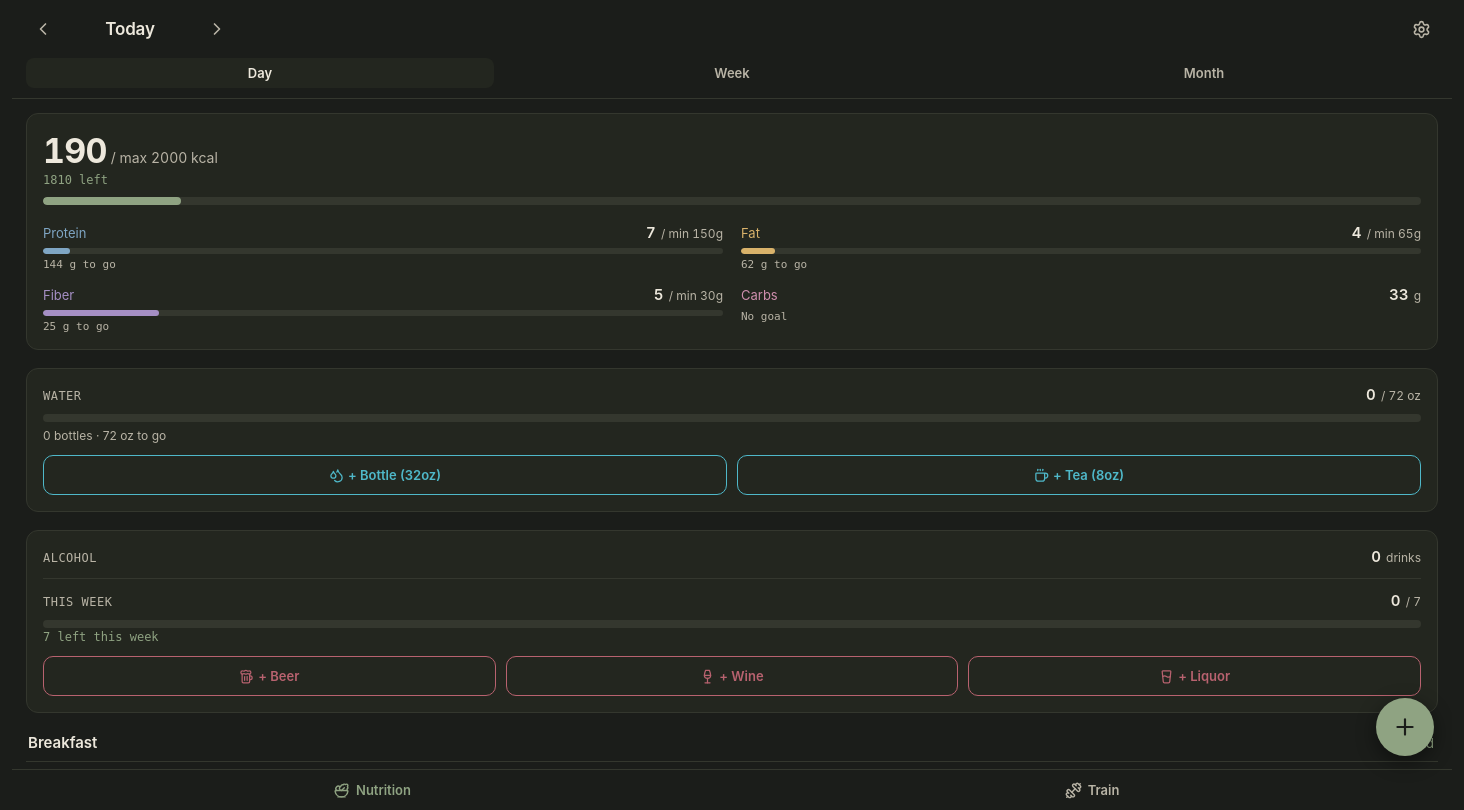
Test case: App › names the walk by its length from Settings
What coordinates should you click on to do the following:
click the button "Train"
I would click on:
 (1092, 790)
Its box is [732,770,1452,809].
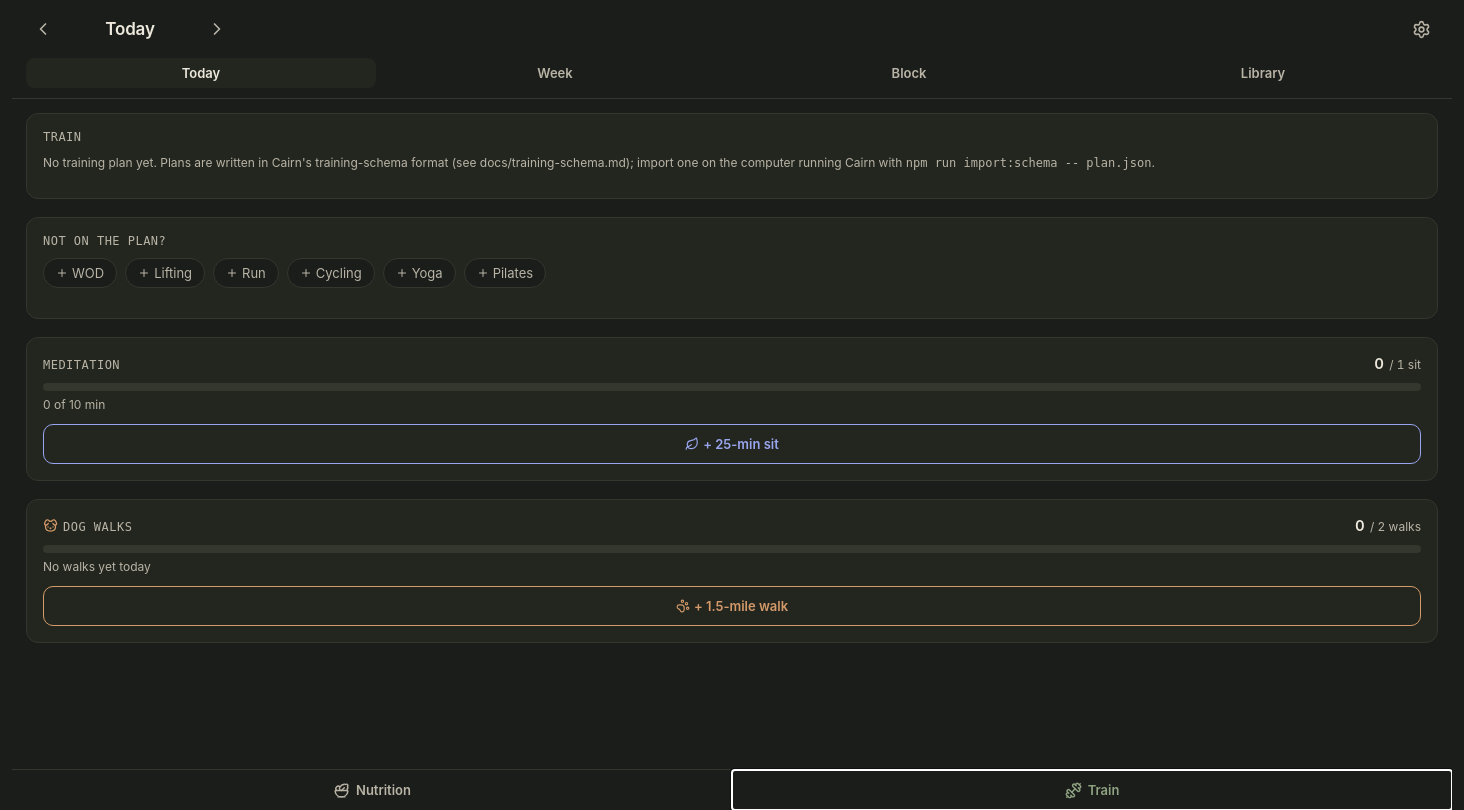
Expected: the button "+ 1.5-mile walk" is shown, [43,586,1421,626]
Expected: the text "No walks yet today" is shown, [43,559,151,574]
